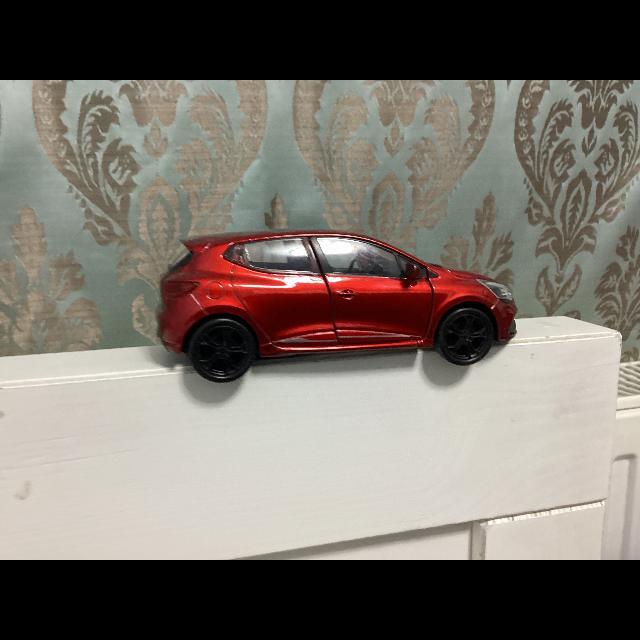Dogru_Jant: (195, 325, 247, 377), (443, 313, 489, 361)
